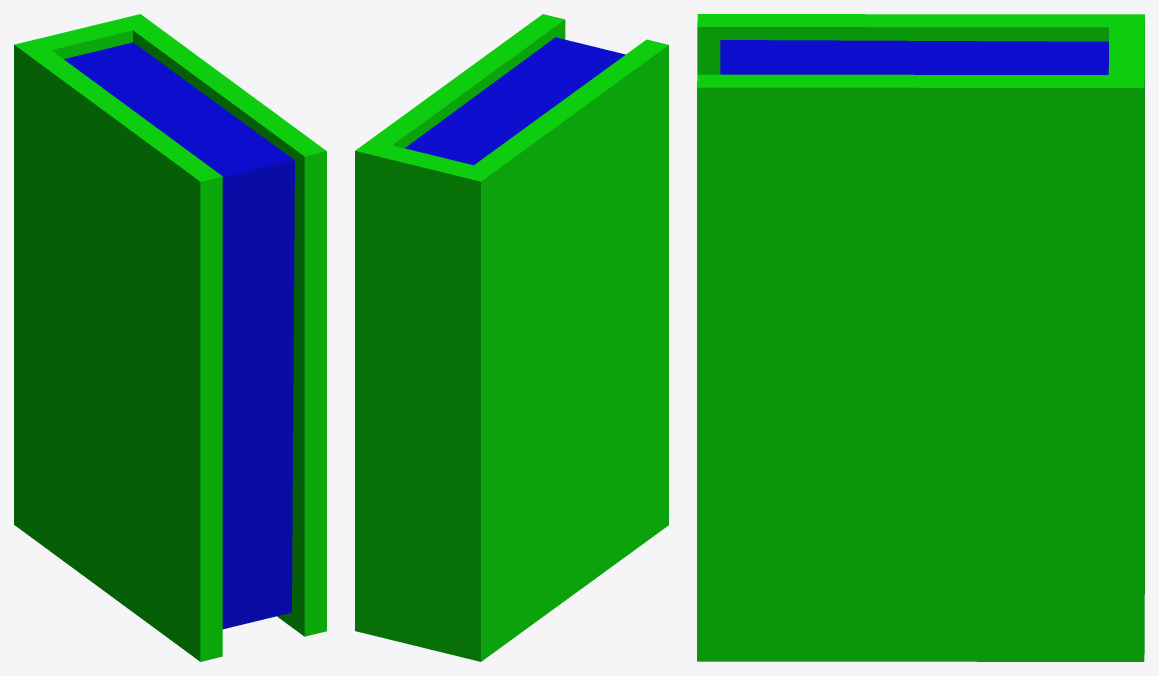
File: book.fbx
3 renders of one model, left to right at view 1: azimuth 30°, elevation 25°; view 2: azimuth 150°, elevation 25°; view 3: azimuth 270°, elevation 25°, orthographic. The views are drawn at different scales.
Visible parts, largest first — view 1: polySurface35; view 2: polySurface35; view 3: polySurface35.
Boxes of the visible parts, x1=… form: polySurface35: x1=14, y1=14, x2=326, y2=661; polySurface35: x1=355, y1=14, x2=668, y2=661; polySurface35: x1=697, y1=14, x2=1144, y2=661.
Bounding box in the file's own units: 3.8 × 13.71 × 9.7.
